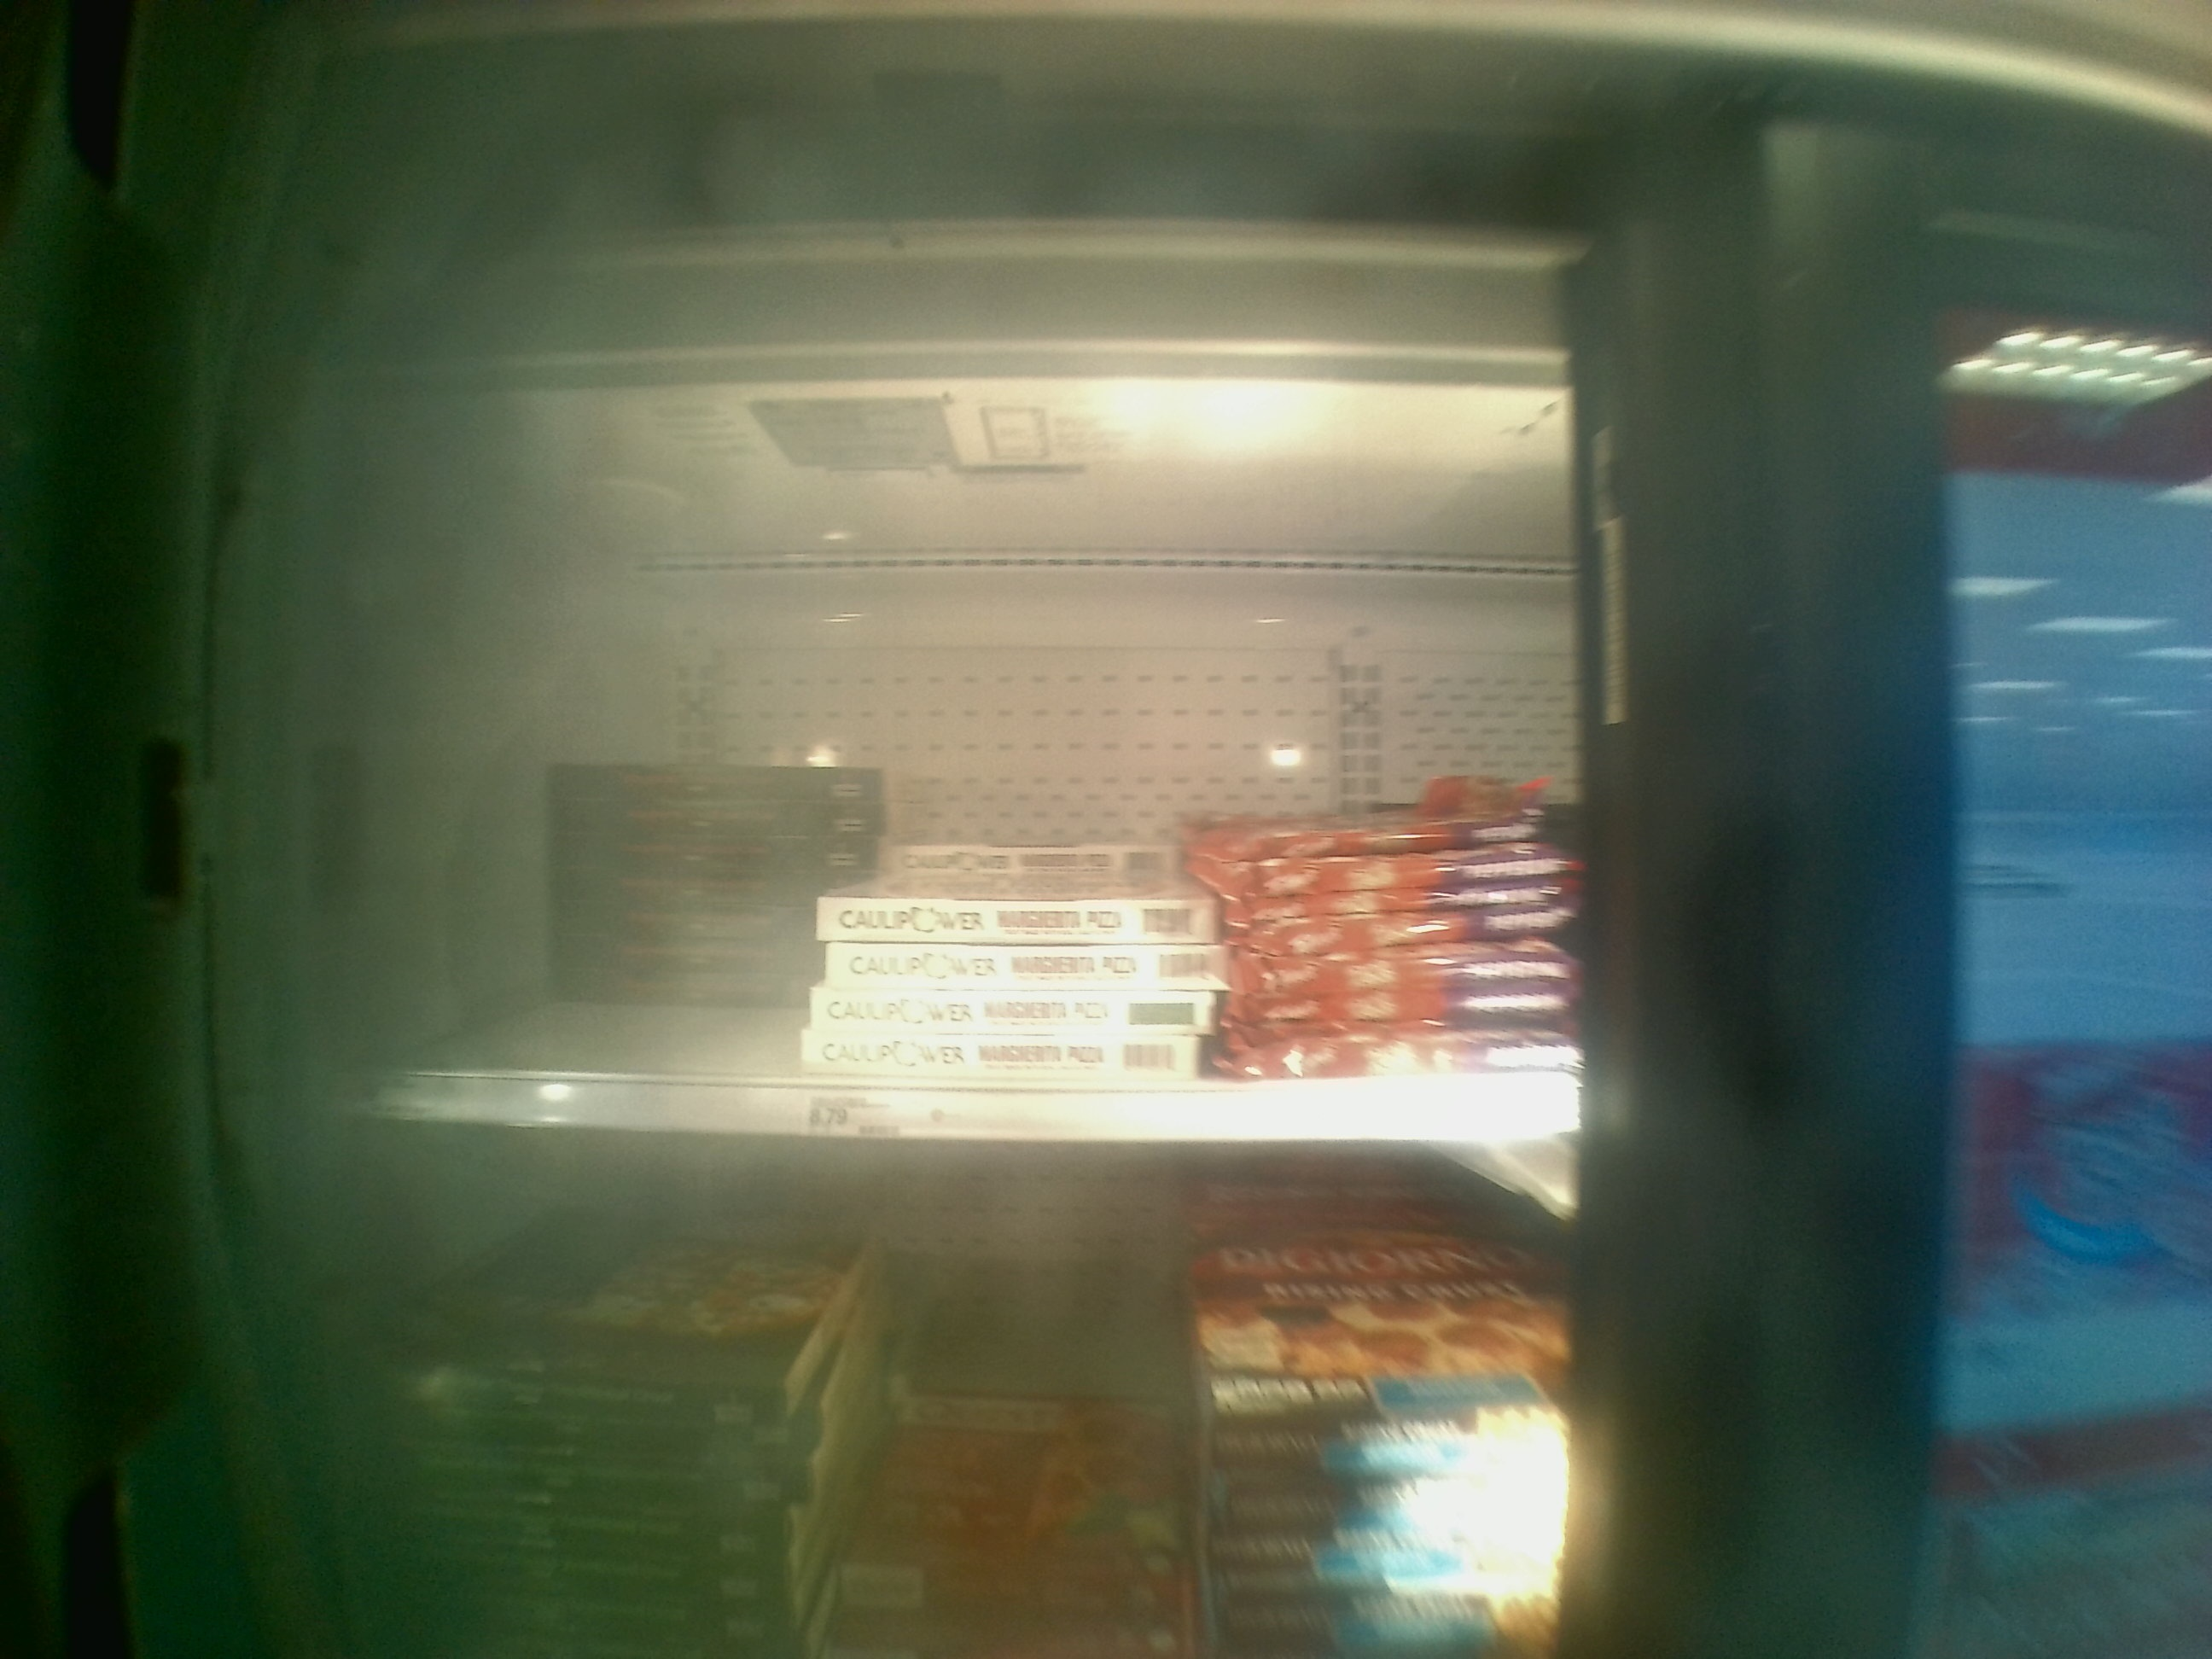pizza: (1190, 1199, 1564, 1419), (402, 1215, 833, 1398), (411, 1450, 792, 1497), (824, 911, 1200, 955), (801, 993, 1209, 1033), (810, 1035, 1211, 1075), (561, 772, 883, 817), (819, 958, 1211, 988), (432, 1516, 798, 1547), (1209, 1427, 1470, 1462), (899, 847, 1174, 871), (1223, 1492, 1404, 1521)
